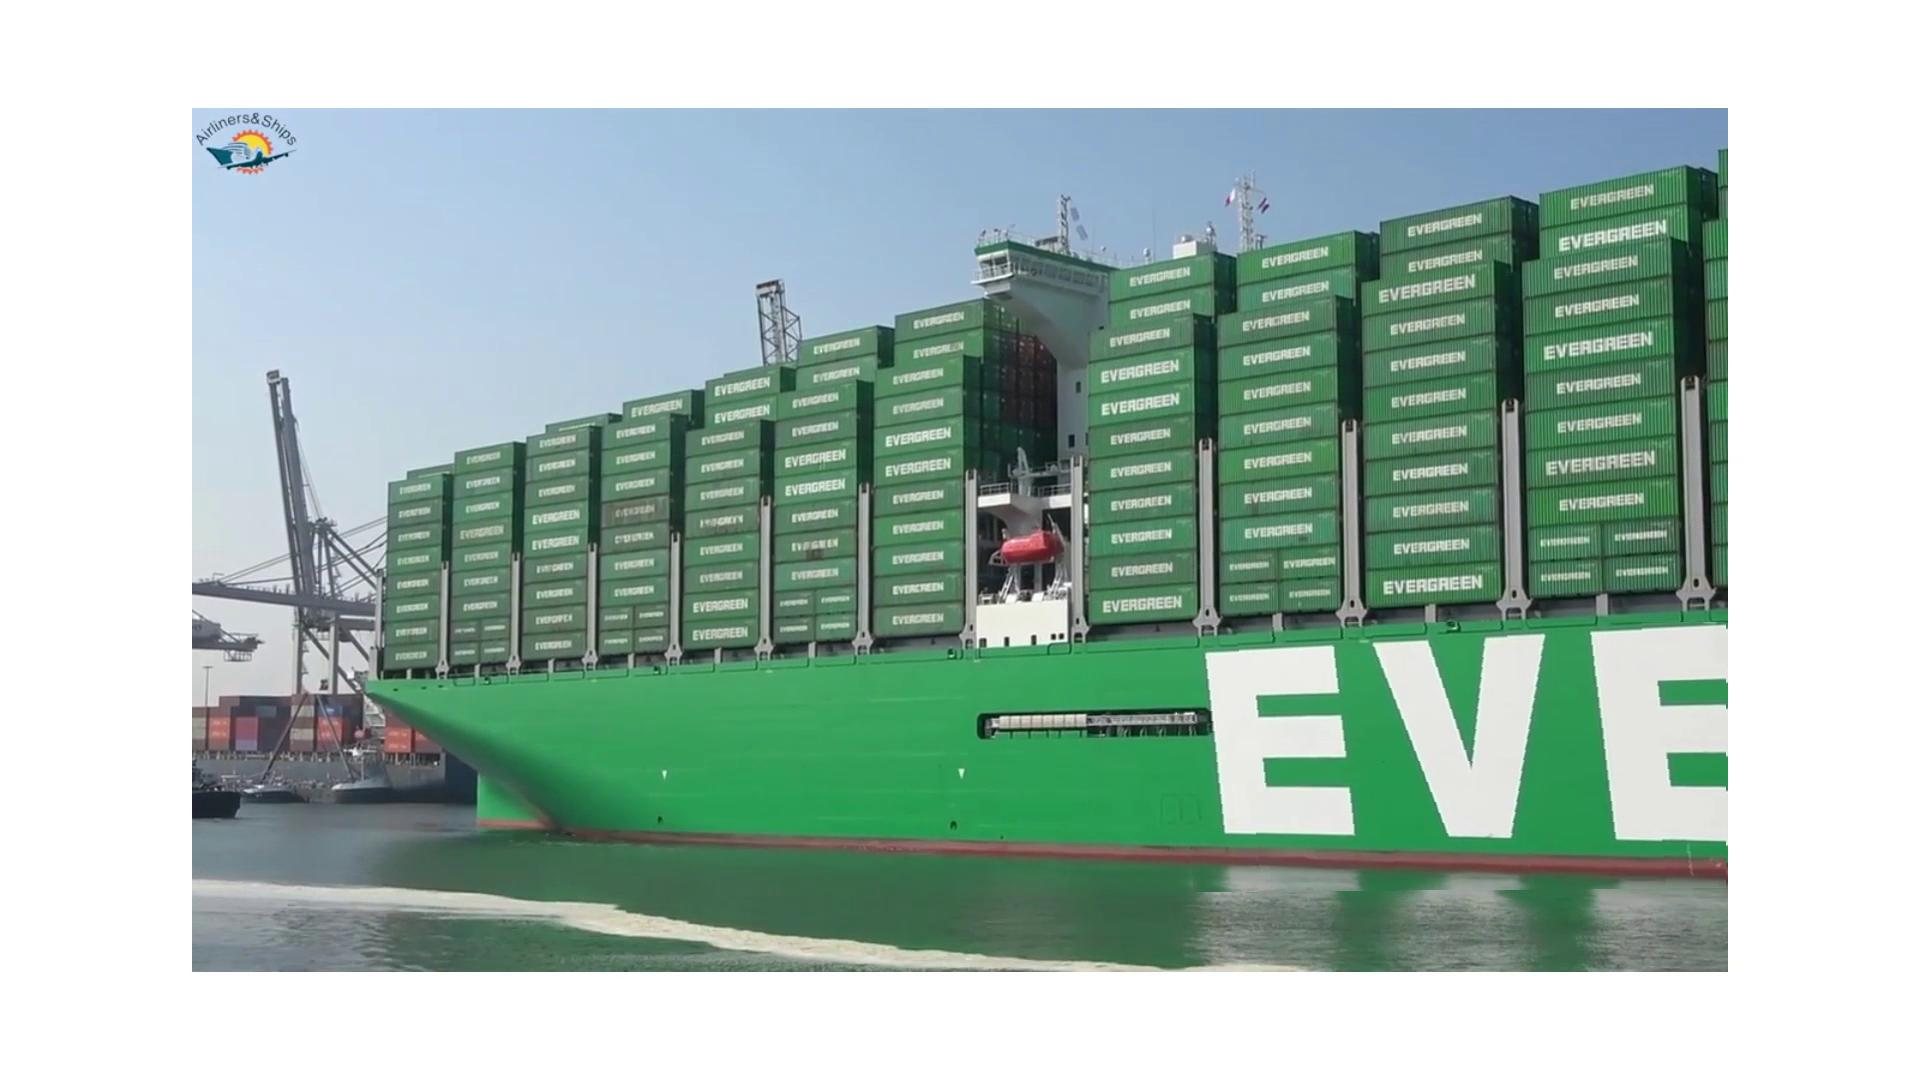OCR: (1168, 622, 1726, 891)
